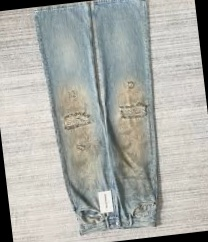earth: (111, 80, 153, 178), (63, 88, 99, 181)
